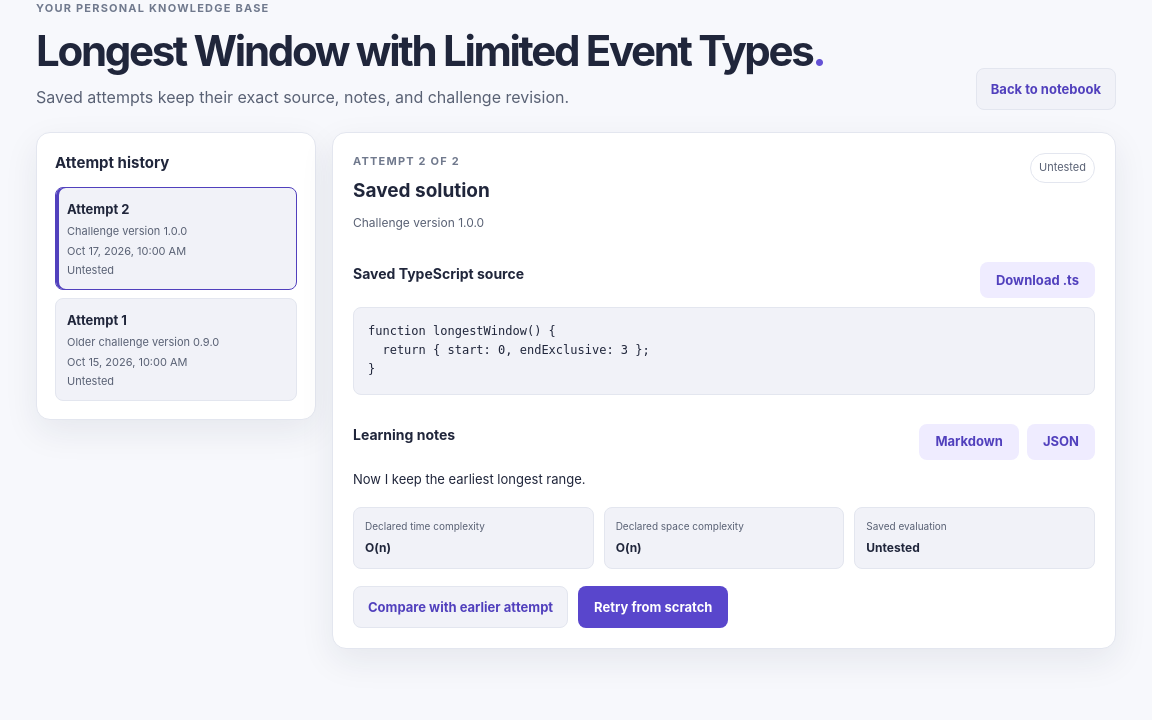
Test case: Notebook challenge detail › compares selected versions with explicit Added and Removed labels
The width and height of the screenshot is (1152, 720).
What coordinates should you click on to do the following:
click the button with aria-label "Compare versions"
I would click on:
 (461, 607)
Its box is [353,586,568,628].
(page scrolled)
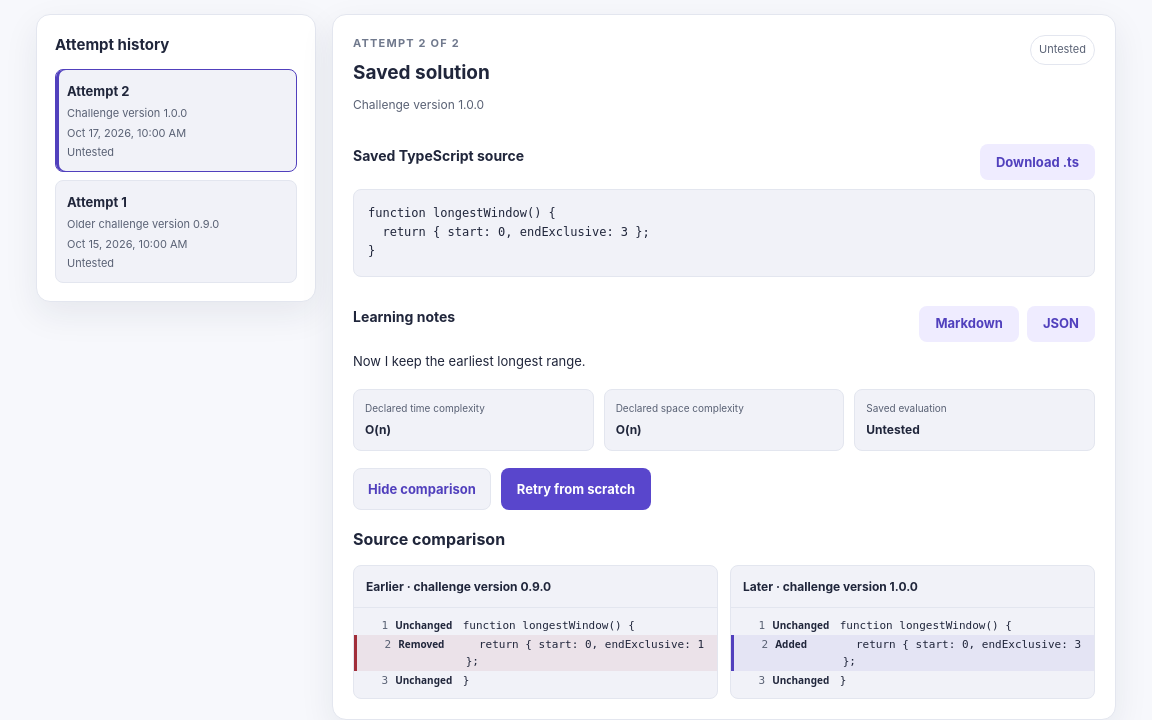
Now the element named "Earlier attempt source" shows "Removed", box [398,637,444,651]
Now the element named "Later attempt source" shows "Added", box [775,637,807,651]
Now the text "return { start: 0, endExclusive: 1 }" is shown, box [466,638,711,668]
